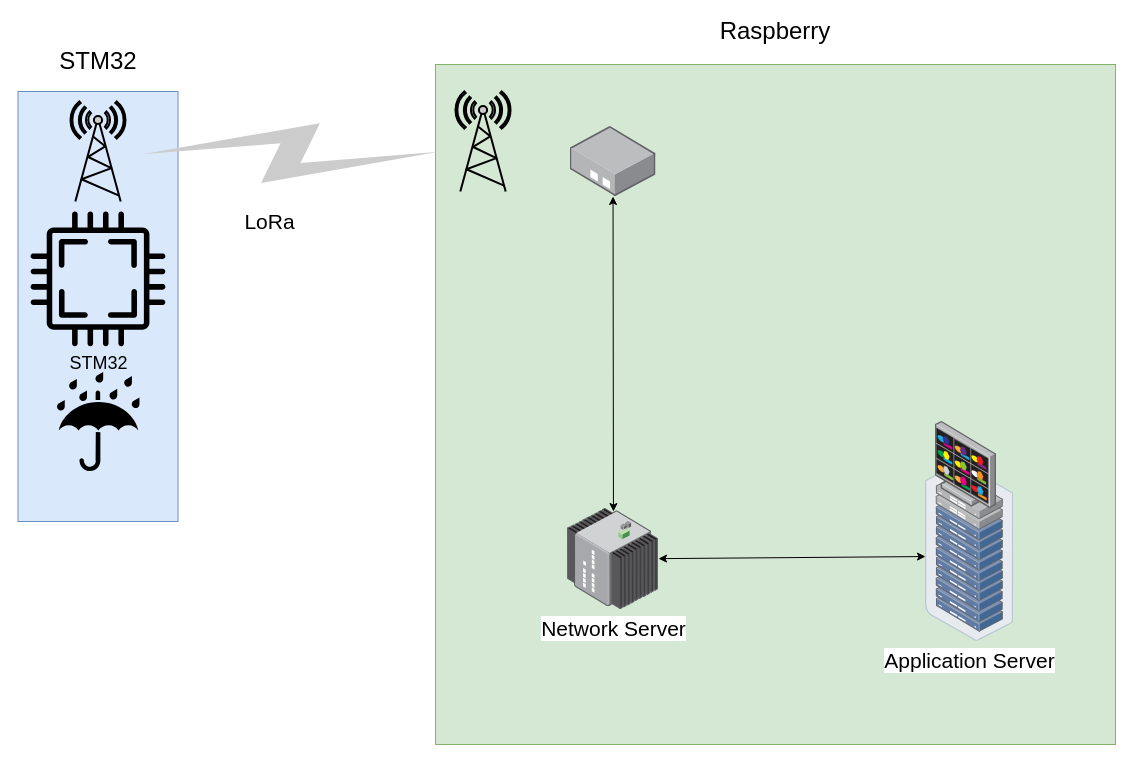
Some shapes in this 1133 by 762 pixel diagram are drawn without their labels. The shapes that lost their labels are listed below. From the top down, each one's centre as x and y in pixels, then its label:
At point 613,161: "Passerelle".
At point 97,421: "Capteur".
